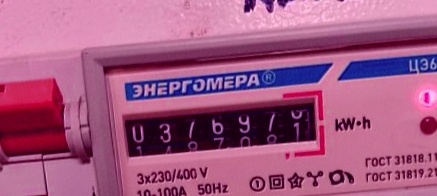0: (130, 121, 147, 144)
1: (292, 120, 303, 142)
3: (158, 121, 173, 143)
6: (210, 111, 227, 136)
7: (263, 107, 280, 131), (184, 115, 200, 139)
9: (237, 111, 253, 134)
screen: (112, 85, 333, 179)
